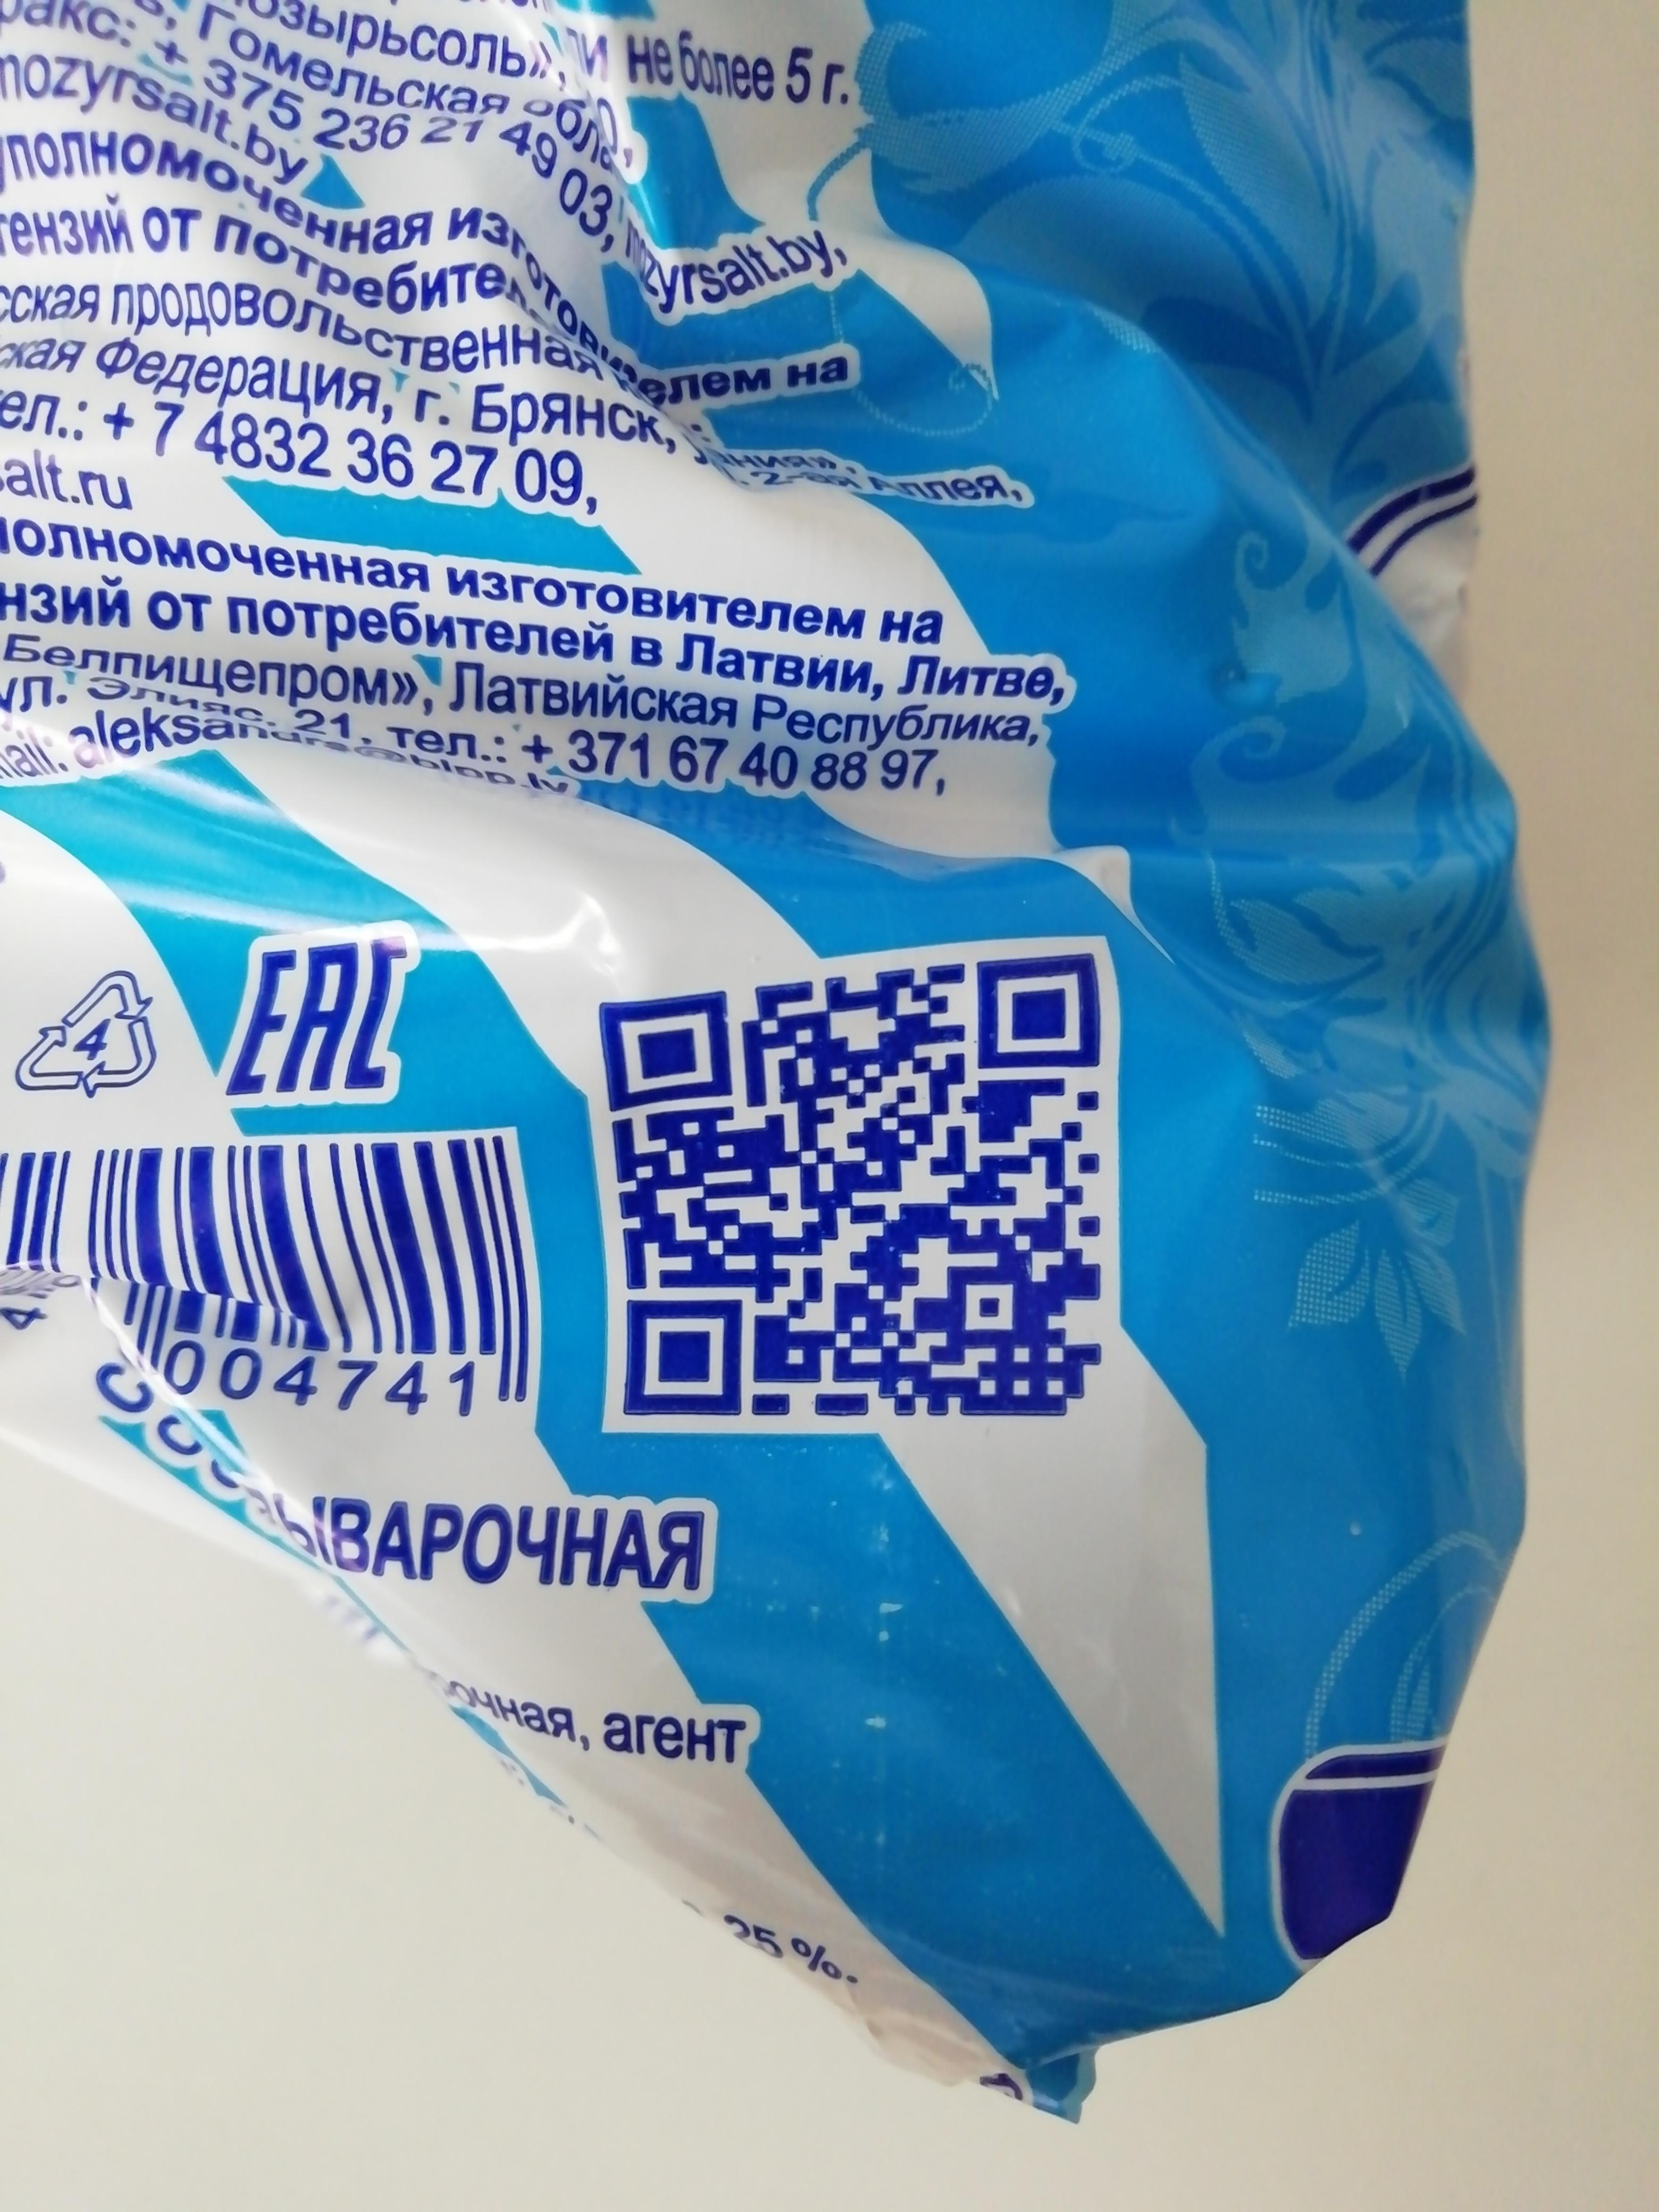qrcode: (599, 948, 1103, 1420)
